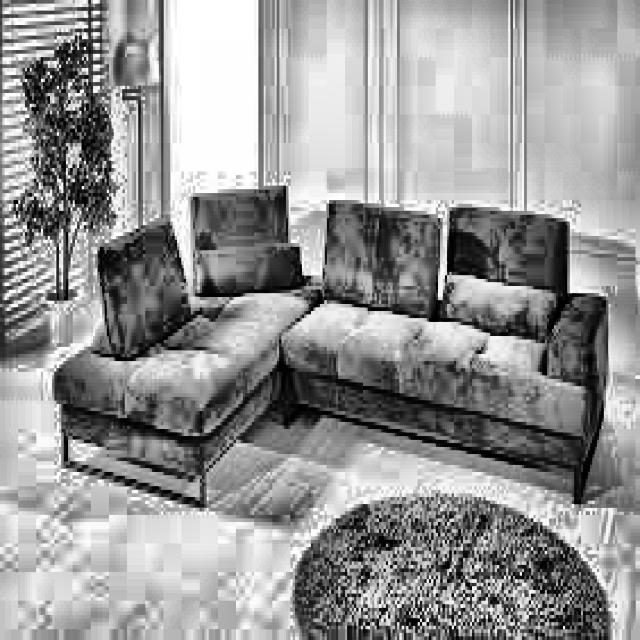sofa: (68, 197, 615, 511)
